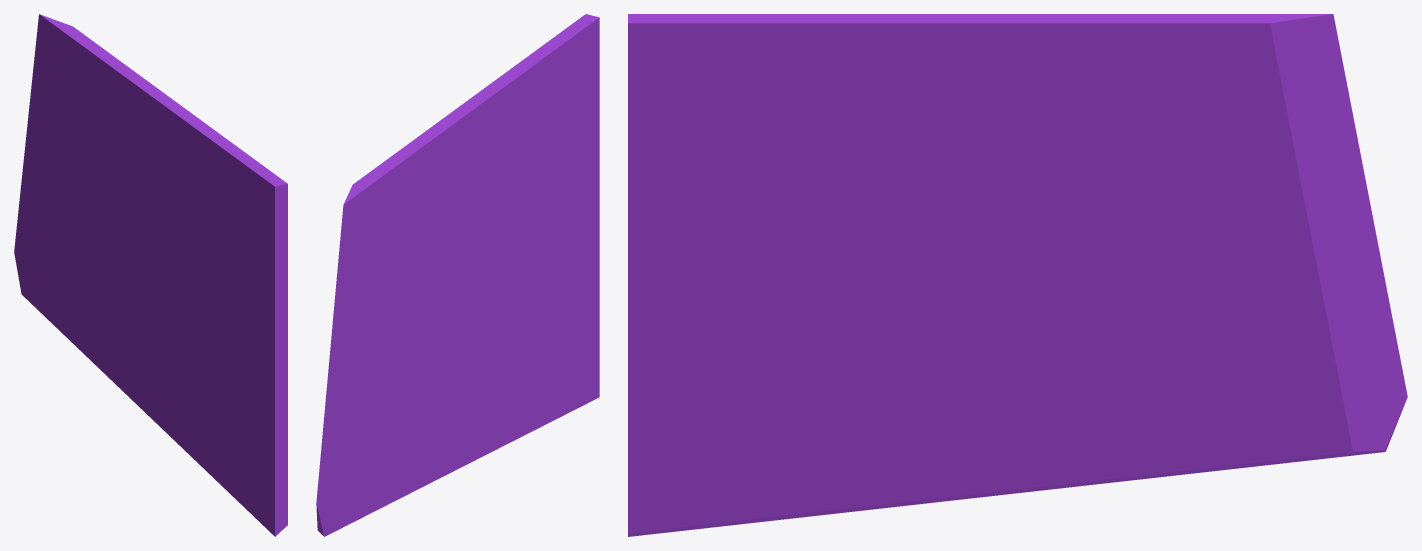
The model's file is Glass_110_2_chunks.fbx.
3 renders of one model, left to right at view 1: azimuth 30°, elevation 25°; view 2: azimuth 150°, elevation 25°; view 3: azimuth 270°, elevation 25°, orthographic. The views are drawn at different scales.
Parts seen in each view (by area): view 1: Glass_110_2_4, Glass_110_2_7, Glass_110_2_10, Glass_110_2_1, Glass_110_2_3, Glass_110_2_6, Glass_110_2_9, Glass_110_2_17, Glass_110_2_16, Glass_110_2_18, Glass_110_2_0, Glass_110_2_13 (+4 smaller); view 2: Glass_110_2_4, Glass_110_2_7, Glass_110_2_10, Glass_110_2_3, Glass_110_2_1, Glass_110_2_9, Glass_110_2_6, Glass_110_2_17, Glass_110_2_16, Glass_110_2_18, Glass_110_2_0, Glass_110_2_13 (+4 smaller); view 3: Glass_110_2_4, Glass_110_2_7, Glass_110_2_6, Glass_110_2_0, Glass_110_2_10, Glass_110_2_1, Glass_110_2_9, Glass_110_2_18, Glass_110_2_17, Glass_110_2_3, Glass_110_2_16, Glass_110_2_15 (+5 smaller).
Part boxes in pixels (bbox=[...]): Glass_110_2_4: bbox=[168, 247, 287, 445]; Glass_110_2_7: bbox=[20, 14, 113, 210]; Glass_110_2_10: bbox=[69, 56, 129, 281]; Glass_110_2_1: bbox=[183, 327, 287, 536]; Glass_110_2_3: bbox=[102, 259, 183, 394]; Glass_110_2_6: bbox=[115, 65, 175, 305]; Glass_110_2_9: bbox=[14, 198, 98, 309]; Glass_110_2_17: bbox=[120, 72, 206, 218]; Glass_110_2_16: bbox=[203, 191, 287, 282]; Glass_110_2_18: bbox=[195, 122, 287, 226]; Glass_110_2_0: bbox=[37, 274, 116, 370]; Glass_110_2_13: bbox=[195, 406, 270, 532]; Glass_110_2_4: bbox=[483, 121, 599, 317]; Glass_110_2_7: bbox=[322, 152, 407, 433]; Glass_110_2_10: bbox=[376, 143, 441, 400]; Glass_110_2_3: bbox=[411, 313, 500, 492]; Glass_110_2_1: bbox=[500, 292, 599, 399]; Glass_110_2_9: bbox=[316, 371, 408, 536]; Glass_110_2_6: bbox=[410, 134, 490, 325]; Glass_110_2_17: bbox=[421, 80, 524, 206]; Glass_110_2_16: bbox=[521, 46, 599, 182]; Glass_110_2_18: bbox=[494, 14, 599, 130]; Glass_110_2_0: bbox=[342, 365, 427, 527]; Glass_110_2_13: bbox=[513, 376, 594, 430]; Glass_110_2_4: bbox=[628, 167, 945, 415]; Glass_110_2_7: bbox=[1146, 14, 1390, 309]; Glass_110_2_6: bbox=[892, 14, 1113, 332]; Glass_110_2_0: bbox=[1034, 285, 1353, 482]; Glass_110_2_10: bbox=[1070, 14, 1211, 324]; Glass_110_2_1: bbox=[628, 345, 896, 536]; Glass_110_2_9: bbox=[1172, 288, 1407, 456]; Glass_110_2_18: bbox=[628, 14, 881, 124]; Glass_110_2_17: bbox=[845, 14, 1090, 168]; Glass_110_2_3: bbox=[896, 310, 1142, 487]; Glass_110_2_16: bbox=[628, 88, 806, 186]; Glass_110_2_15: bbox=[755, 113, 931, 208].
Bounding box in the file's own units: 27.2 × 716 × 967.
